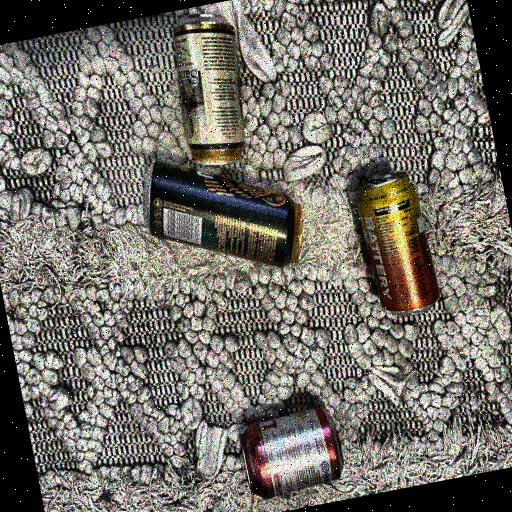karhu: (134, 152, 313, 274)
koff: (214, 386, 363, 512)
sandels: (168, 14, 257, 167)
